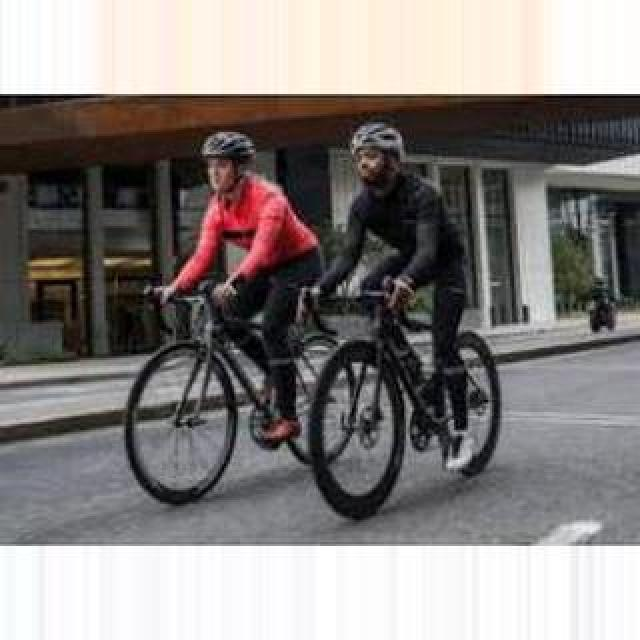MC-Bike: (314, 122, 476, 500), (152, 132, 322, 466)
Person: (125, 275, 359, 513), (306, 278, 502, 518)
